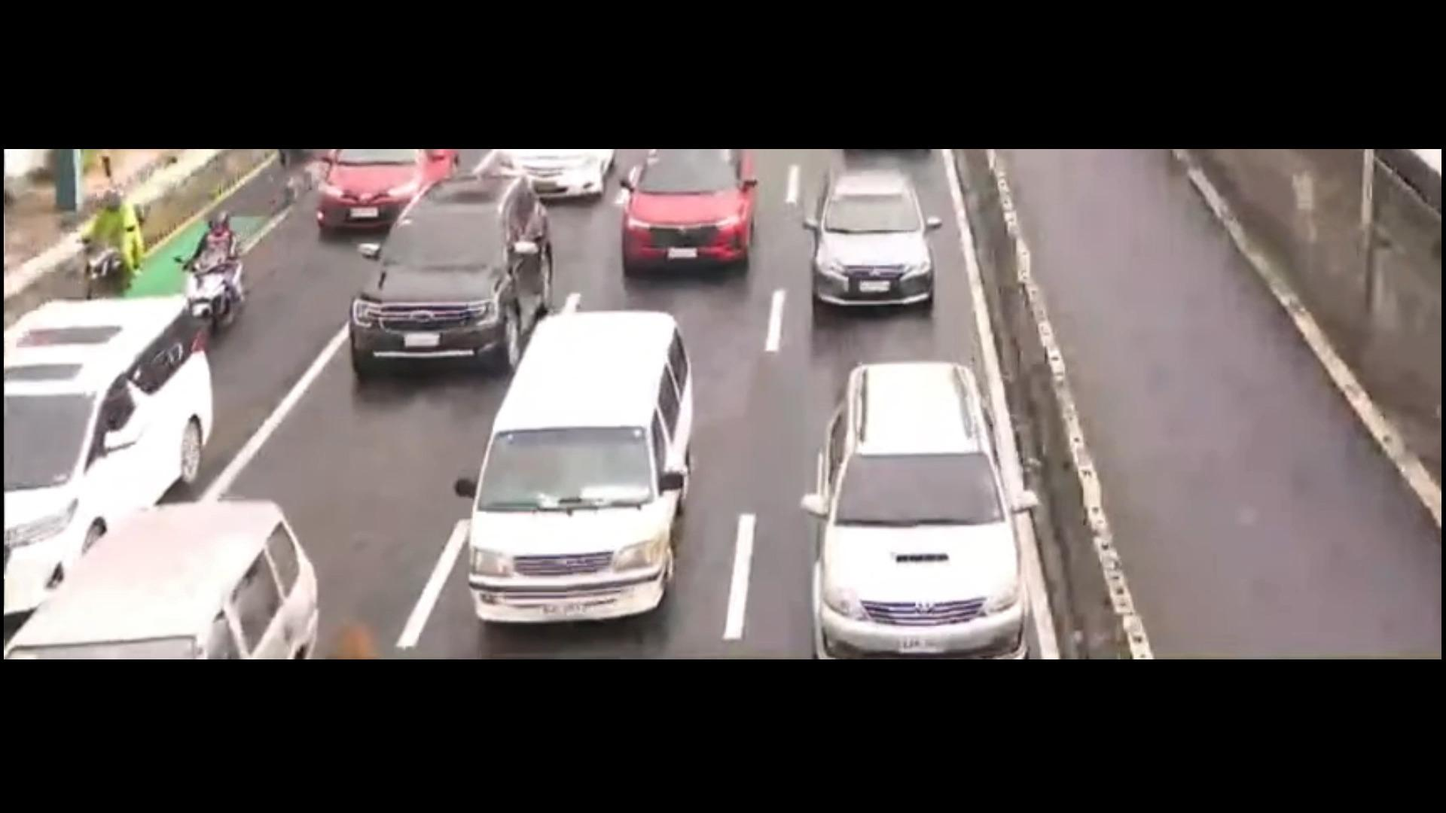Motorcycle: (164, 200, 256, 348), (70, 194, 147, 303)
SUV: (799, 347, 1040, 649), (0, 285, 230, 584), (317, 172, 571, 381), (614, 148, 763, 288)
Sedan: (790, 155, 946, 334)
Van: (424, 288, 731, 648)
